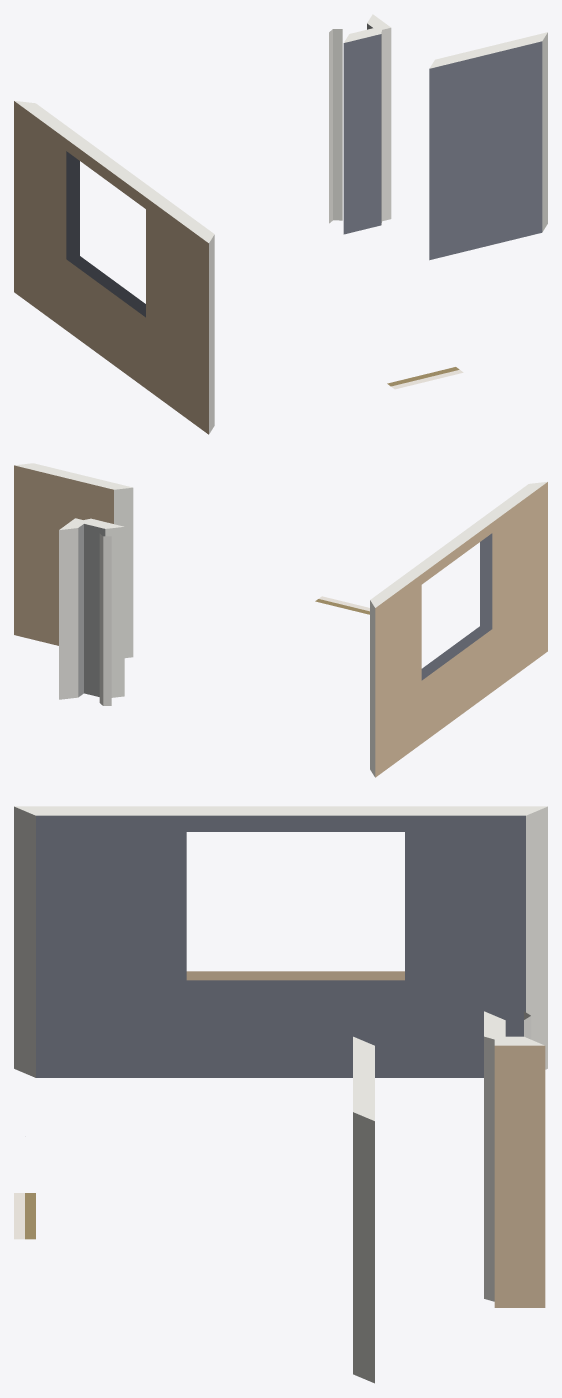
Rendered from room_level4_group_01_lev1.glb.
3 views of the same model, one above another, from view 1: azimuth 30°, elevation 25°; view 2: azimuth 150°, elevation 25°; view 3: azimuth 270°, elevation 25° (orthographic). The views are drawn at different scales.
Visible parts, largest first — view 1: mesh41__5463735a_07d9_0d46_b99b_4a921fd9a507__0_lev1, mesh34__db2f0d91_7694_6343_b0fd_47d4e18ad08a__0_lev1, mesh37__db2f0d91_7694_6343_b0fd_47d4e18ad08a__0_lev1, mesh24_fx_9001_cream_matte_paint_0_lev1, mesh43_fx_9001_cream_matte_paint_0_lev1, mesh42__db2f0d91_7694_6343_b0fd_47d4e18ad08a__0_lev1, mesh32_fx_9001_cream_matte_paint_0_lev1, mesh36_fx_9001_cream_matte_paint_0_lev1, mesh44_fx_9001_cream_matte_paint_0_lev1, mesh35_fx_9001_cream_matte_paint_0_lev1; view 2: mesh41__5463735a_07d9_0d46_b99b_4a921fd9a507__0_lev1, mesh33__5463735a_07d9_0d46_b99b_4a921fd9a507__0_lev1, mesh24_fx_9001_cream_matte_paint_0_lev1, mesh32_fx_9001_cream_matte_paint_0_lev1, mesh38__4aa4e706_0d30_d54b_b003_55d5056eaf82__0_lev1, mesh43_fx_9001_cream_matte_paint_0_lev1, mesh36_fx_9001_cream_matte_paint_0_lev1, mesh42__db2f0d91_7694_6343_b0fd_47d4e18ad08a__0_lev1, mesh44_fx_9001_cream_matte_paint_0_lev1, mesh30__4aa4e706_0d30_d54b_b003_55d5056eaf82__0_lev1, mesh35_fx_9001_cream_matte_paint_0_lev1; view 3: mesh42__db2f0d91_7694_6343_b0fd_47d4e18ad08a__0_lev1, mesh29__5463735a_07d9_0d46_b99b_4a921fd9a507__0_lev1, mesh44_fx_9001_cream_matte_paint_0_lev1, mesh36_fx_9001_cream_matte_paint_0_lev1, mesh43_fx_9001_cream_matte_paint_0_lev1, mesh40_fx_9001_cream_matte_paint_0_lev1, mesh41__5463735a_07d9_0d46_b99b_4a921fd9a507__0_lev1, mesh35_fx_9001_cream_matte_paint_0_lev1.
Boxes of the visible parts, x1,y1,x2,y2 form: mesh41__5463735a_07d9_0d46_b99b_4a921fd9a507__0_lev1: [14, 101, 208, 434]; mesh34__db2f0d91_7694_6343_b0fd_47d4e18ad08a__0_lev1: [429, 41, 542, 260]; mesh37__db2f0d91_7694_6343_b0fd_47d4e18ad08a__0_lev1: [343, 34, 381, 234]; mesh24_fx_9001_cream_matte_paint_0_lev1: [329, 29, 342, 223]; mesh43_fx_9001_cream_matte_paint_0_lev1: [14, 100, 214, 242]; mesh42__db2f0d91_7694_6343_b0fd_47d4e18ad08a__0_lev1: [66, 151, 145, 317]; mesh32_fx_9001_cream_matte_paint_0_lev1: [382, 28, 391, 221]; mesh36_fx_9001_cream_matte_paint_0_lev1: [542, 32, 547, 231]; mesh44_fx_9001_cream_matte_paint_0_lev1: [209, 235, 214, 433]; mesh35_fx_9001_cream_matte_paint_0_lev1: [429, 32, 547, 68]; mesh41__5463735a_07d9_0d46_b99b_4a921fd9a507__0_lev1: [375, 482, 547, 777]; mesh33__5463735a_07d9_0d46_b99b_4a921fd9a507__0_lev1: [14, 465, 113, 645]; mesh24_fx_9001_cream_matte_paint_0_lev1: [99, 527, 124, 705]; mesh32_fx_9001_cream_matte_paint_0_lev1: [59, 528, 78, 699]; mesh38__4aa4e706_0d30_d54b_b003_55d5056eaf82__0_lev1: [84, 524, 105, 696]; mesh43_fx_9001_cream_matte_paint_0_lev1: [370, 481, 547, 607]; mesh36_fx_9001_cream_matte_paint_0_lev1: [114, 487, 133, 658]; mesh42__db2f0d91_7694_6343_b0fd_47d4e18ad08a__0_lev1: [421, 533, 492, 680]; mesh44_fx_9001_cream_matte_paint_0_lev1: [370, 600, 375, 777]; mesh30__4aa4e706_0d30_d54b_b003_55d5056eaf82__0_lev1: [78, 524, 83, 697]; mesh35_fx_9001_cream_matte_paint_0_lev1: [15, 463, 132, 489]; mesh42__db2f0d91_7694_6343_b0fd_47d4e18ad08a__0_lev1: [36, 815, 525, 1077]; mesh29__5463735a_07d9_0d46_b99b_4a921fd9a507__0_lev1: [494, 1045, 545, 1307]; mesh44_fx_9001_cream_matte_paint_0_lev1: [14, 806, 547, 1077]; mesh36_fx_9001_cream_matte_paint_0_lev1: [353, 1112, 374, 1383]; mesh43_fx_9001_cream_matte_paint_0_lev1: [14, 806, 547, 815]; mesh40_fx_9001_cream_matte_paint_0_lev1: [484, 1036, 494, 1301]; mesh41__5463735a_07d9_0d46_b99b_4a921fd9a507__0_lev1: [186, 971, 404, 980]; mesh35_fx_9001_cream_matte_paint_0_lev1: [353, 1036, 374, 1120].
Bounding box in the file's own units: 78.88 × 30.65 × 56.55.
